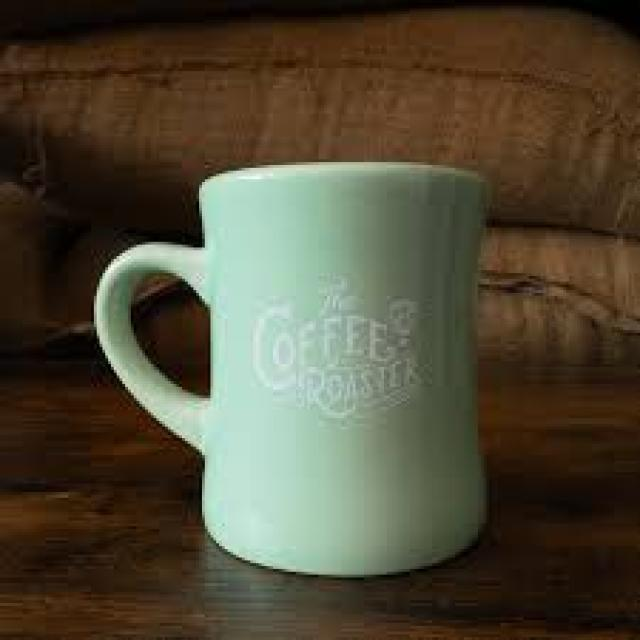taza: (95, 162, 492, 576)
